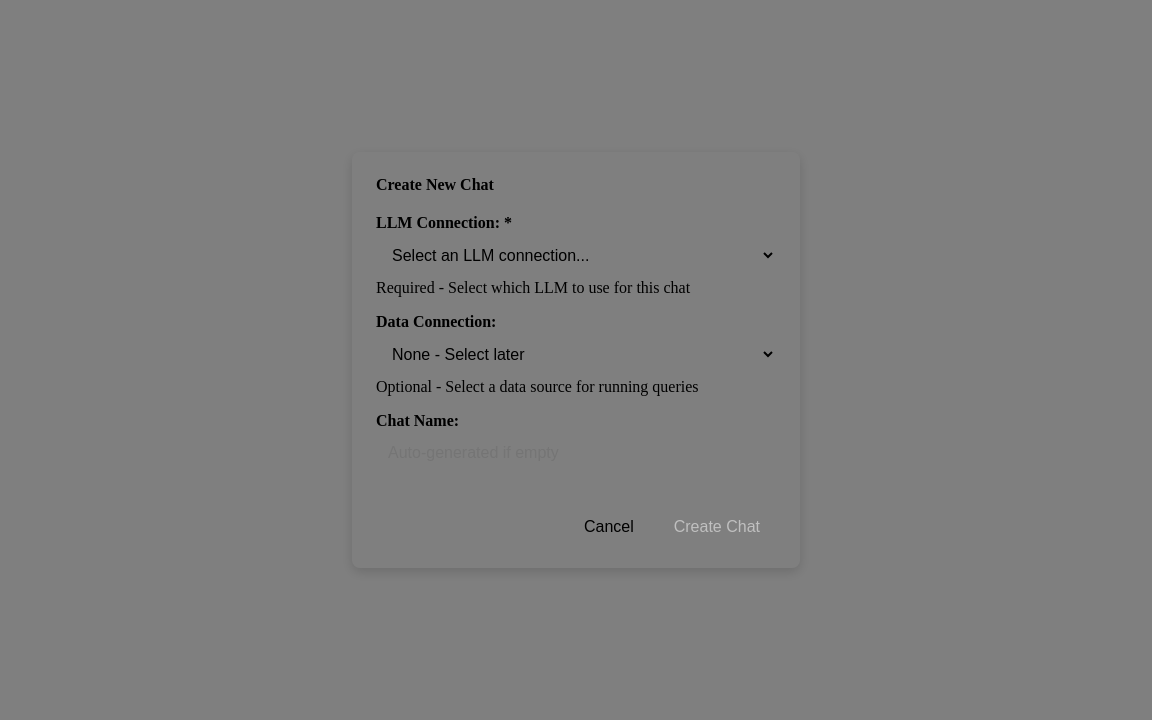
Scenario: new chat model selection › uses the newly selected connection’s models and preserves a saved model missing from the list
This screenshot has width=1152, height=720.
Select "other (gpt-6-astra)" in the dropdown with test id "llm-connection-select" at coordinates (576, 256), box [376, 238, 776, 273]
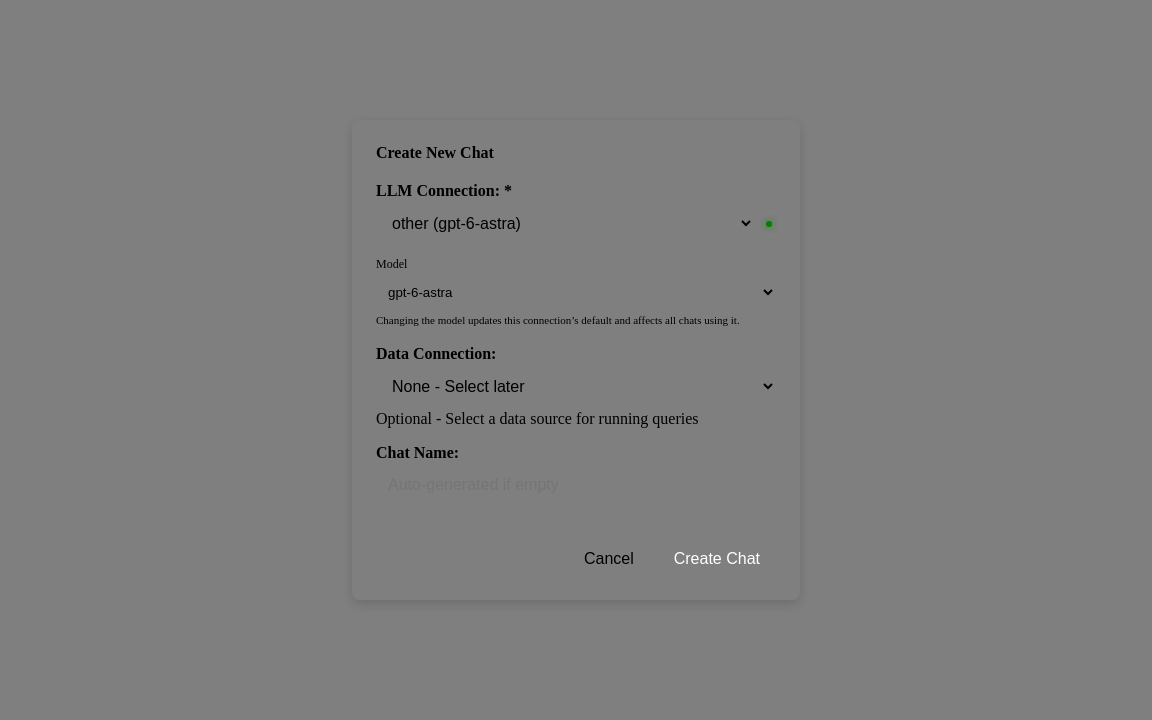
Expected: the dropdown with test id "chat-model-select" shows "gpt-6-astra", [376, 278, 776, 307]
